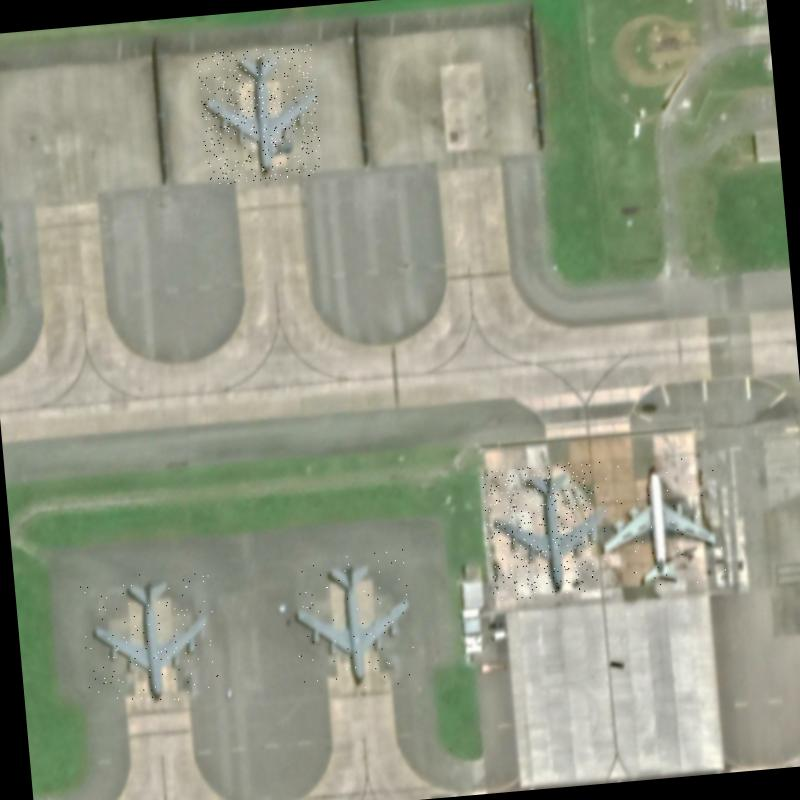A11: (591, 453, 727, 591)
A14: (80, 568, 220, 709), (288, 549, 420, 695), (481, 460, 612, 602), (196, 44, 324, 187)
